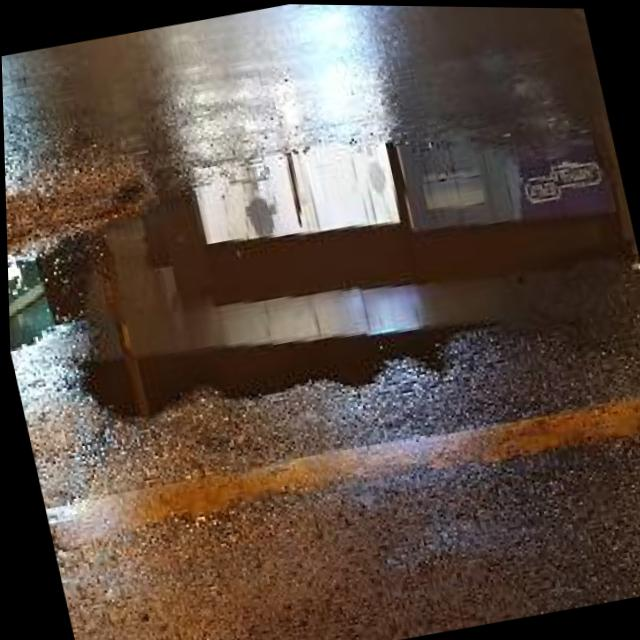puddle: (32, 96, 640, 443)
